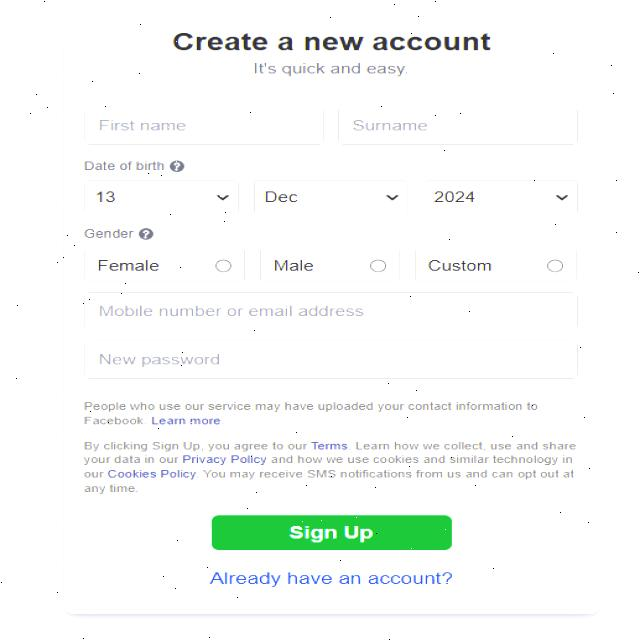button: (207, 509, 457, 556)
dropdownMenu: (77, 174, 244, 217), (418, 176, 582, 218), (250, 176, 413, 218)
input: (78, 334, 584, 382), (78, 286, 583, 333), (335, 102, 584, 150), (78, 100, 329, 147)
label: (78, 396, 585, 496), (166, 26, 503, 55), (203, 565, 461, 591), (245, 56, 416, 80), (421, 254, 498, 277), (75, 154, 168, 173), (92, 254, 167, 276), (78, 222, 136, 242), (268, 256, 320, 275)
radio: (367, 253, 392, 276), (544, 253, 567, 277), (213, 254, 235, 274)
